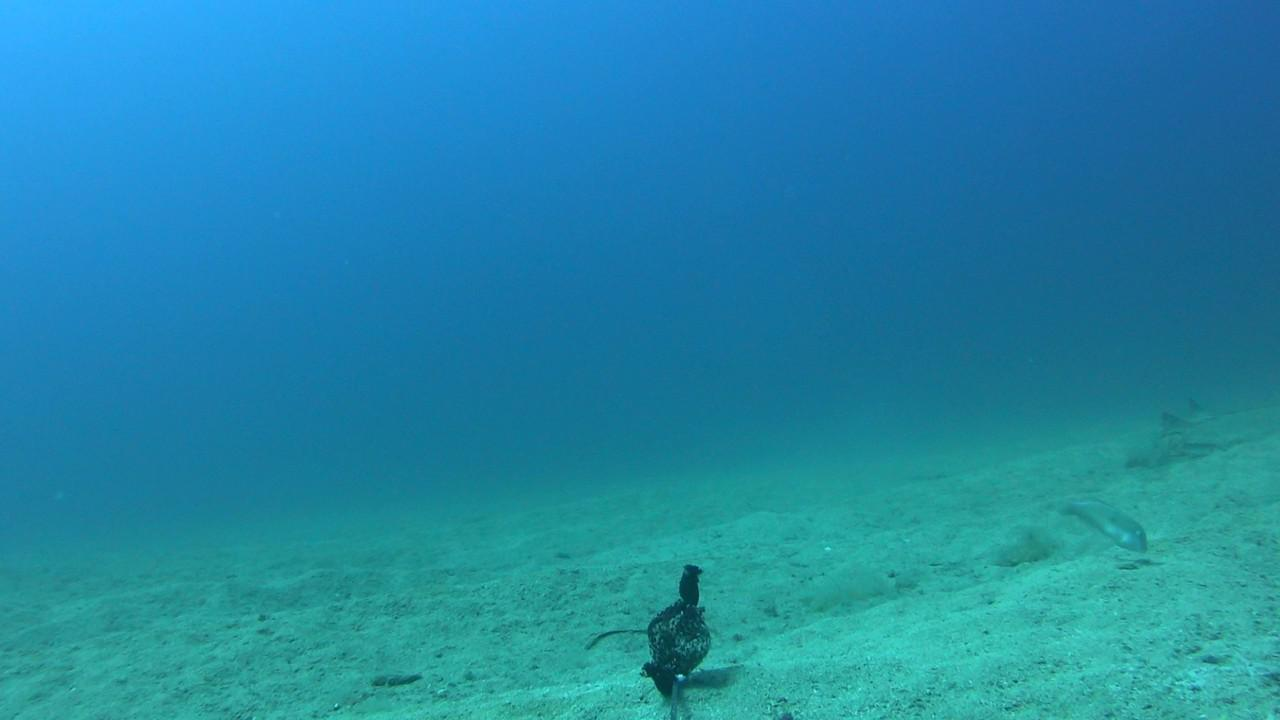myliobatis: (1158, 387, 1249, 436)
raor: (1054, 500, 1152, 554)
